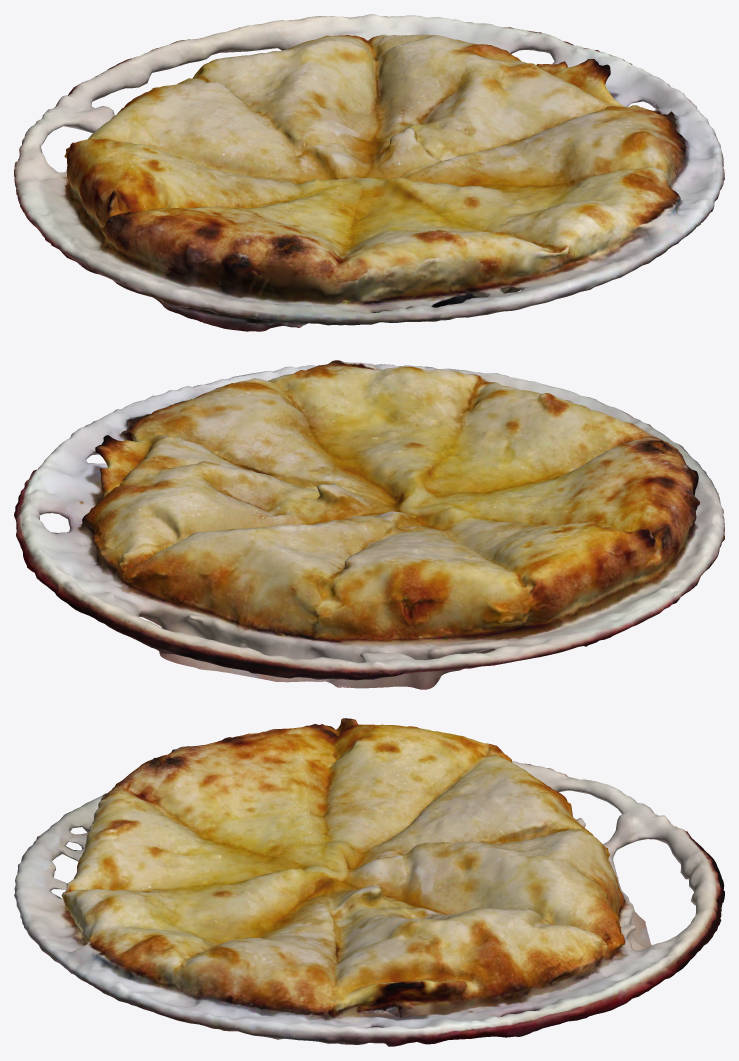
3 views of the same model, one above another, from view 1: azimuth 30°, elevation 25°; view 2: azimuth 150°, elevation 25°; view 3: azimuth 270°, elevation 25° (orthographic).
Visible parts, largest first — view 1: 3Ddata; view 2: 3Ddata; view 3: 3Ddata.
Part boxes in pixels (x1,y1,x2,y2): 3Ddata: [14, 14, 724, 331]; 3Ddata: [14, 360, 724, 689]; 3Ddata: [14, 718, 724, 1046].
Bounding box in the file's own units: 0.2366 × 0.0376 × 0.2383.
Materials: 1 (1 with a texture image).
